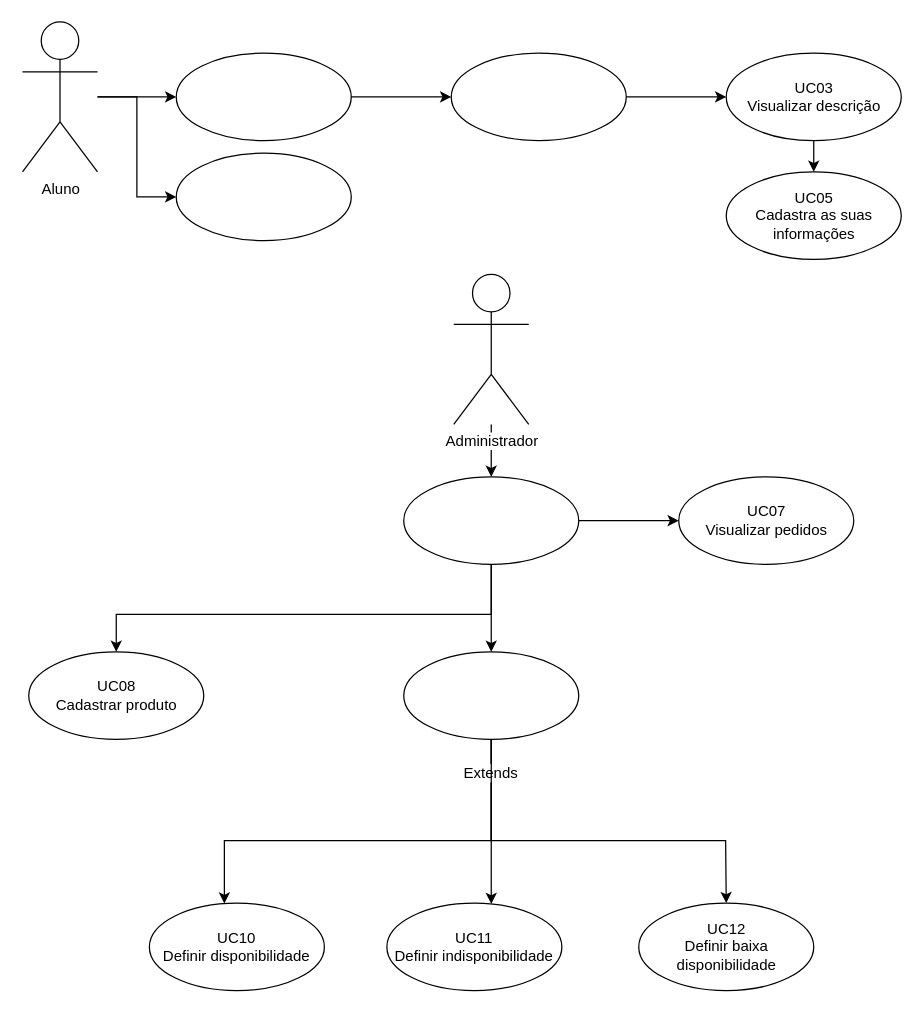
This 923x1013 diagram has some shape labels left out. Here are the shapes that lost their labels. From the top down, the centre of each, then its label:
(x=263, y=96): UC01 Visualizar produto
(x=538, y=96): UC02 Selecionar produto
(x=263, y=196): UC04 Visualizar informações de contato
(x=490, y=520): UC06 Efetuar login
(x=490, y=695): UC09 Editar produto
